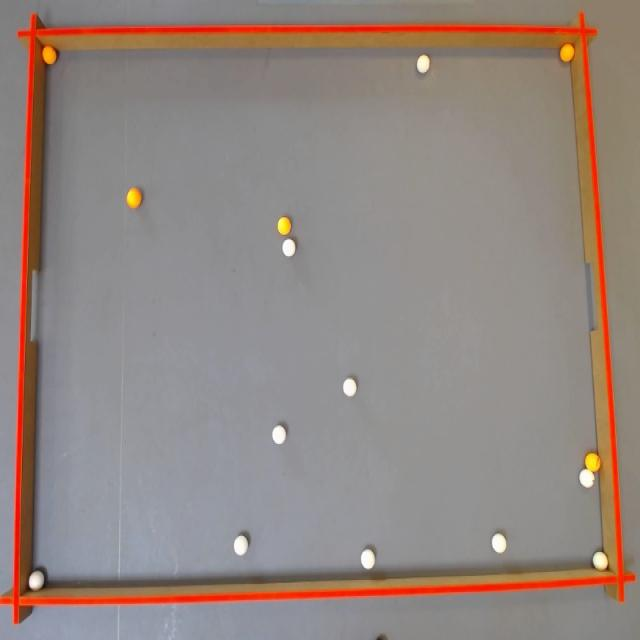orange_ball: (126, 188, 142, 208), (585, 452, 600, 472), (42, 46, 57, 64), (560, 43, 574, 62), (278, 217, 290, 234)
white_ball: (28, 570, 45, 591), (592, 551, 608, 571), (234, 534, 248, 556), (492, 532, 506, 554), (361, 548, 375, 570), (579, 469, 595, 488), (272, 425, 286, 444), (282, 238, 296, 256), (343, 378, 356, 397), (416, 54, 429, 73)
